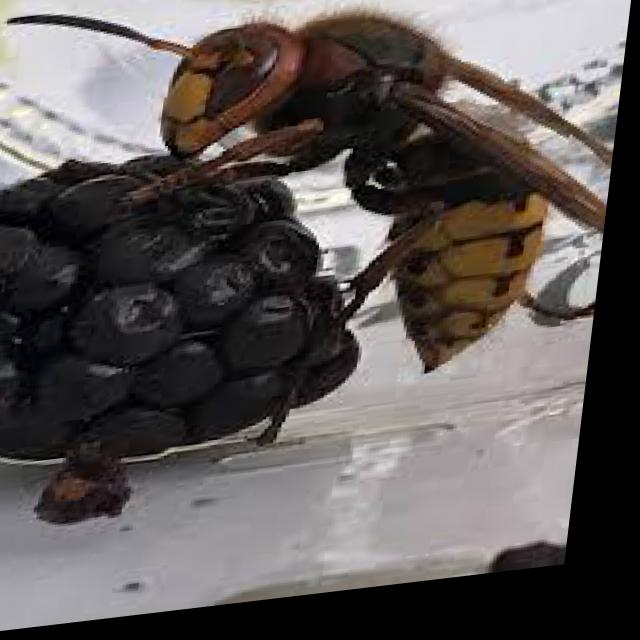Vespa Crabro: (0, 0, 636, 486)
